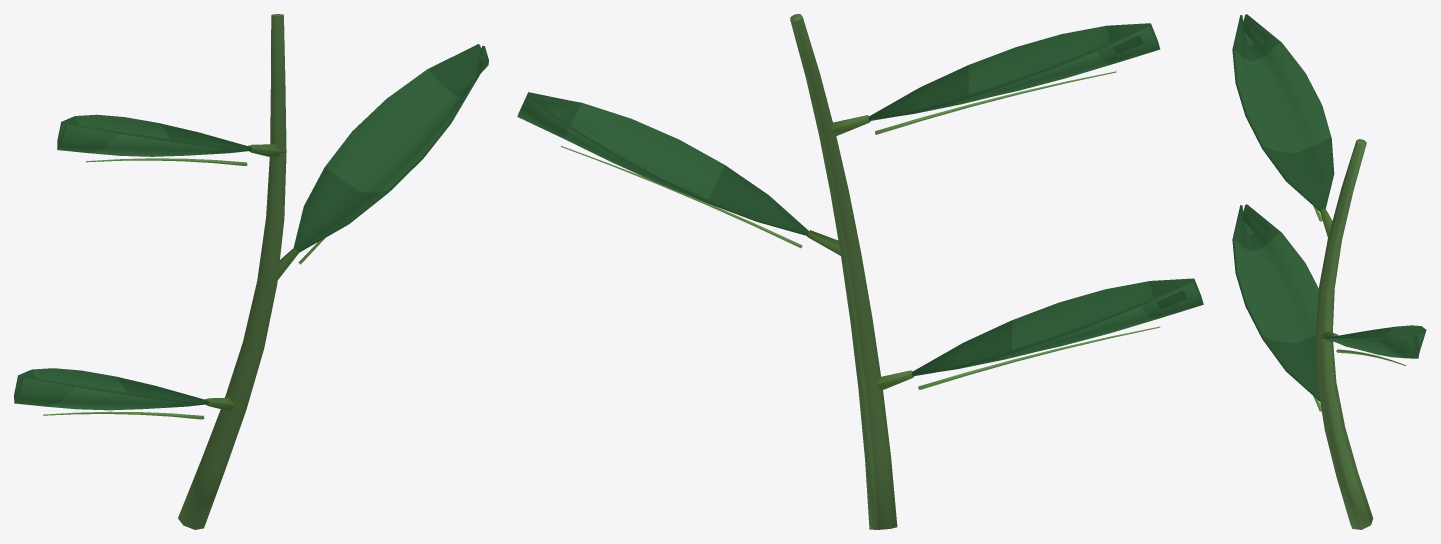
File: garden-tulip-leaves-stem-2.glb
3 views of the same model, side by side, from view 1: azimuth 30°, elevation 25°; view 2: azimuth 150°, elevation 25°; view 3: azimuth 270°, elevation 25° (orthographic). The views are drawn at different scales.
Parts seen in each view (by area): view 1: tulip-leaves-stem-2; view 2: tulip-leaves-stem-2; view 3: tulip-leaves-stem-2.
Part boxes in pixels (<box>): tulip-leaves-stem-2: <box>14,14,488,529</box>; tulip-leaves-stem-2: <box>517,14,1203,529</box>; tulip-leaves-stem-2: <box>1232,14,1426,529</box>.
Size of the model in its own units: 0.3251 by 0.2694 by 0.1104.
